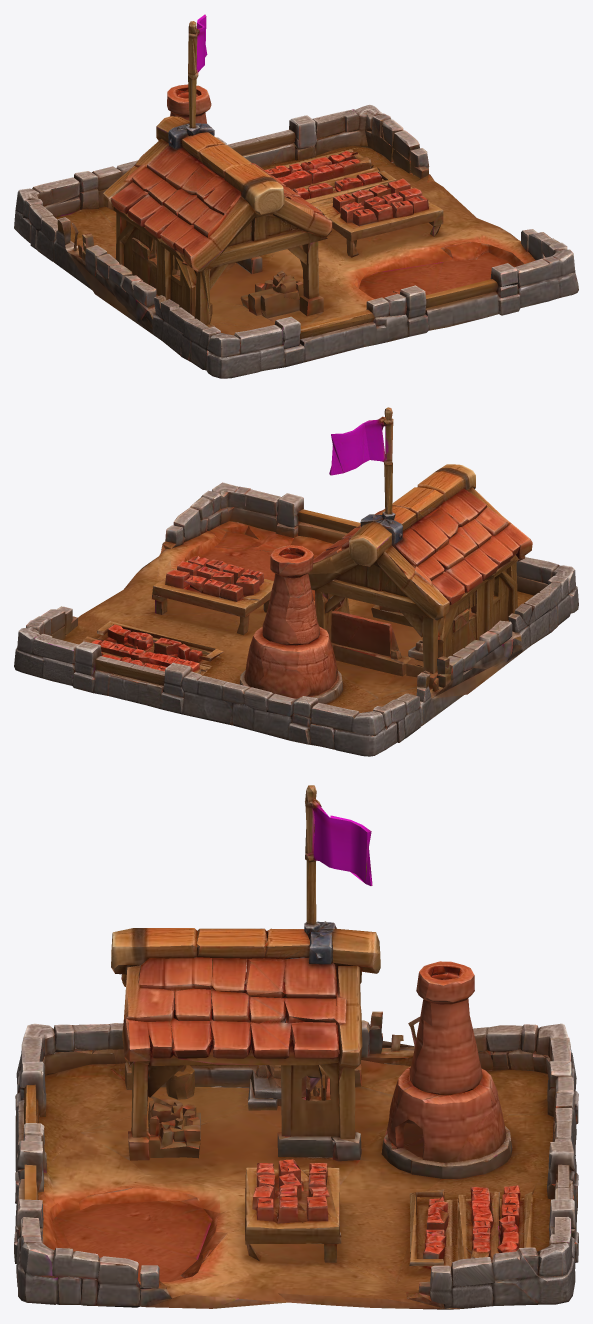
File: brickworks.glb
The picture shows the model from 3 angles, top to bottom: view 1: azimuth 30°, elevation 25°; view 2: azimuth 150°, elevation 25°; view 3: azimuth 270°, elevation 25°; orthographic projection. The views are drawn at different scales.
Parts seen in each view (by area): view 1: Mesh_0; view 2: Mesh_0; view 3: Mesh_0.
Part boxes in pixels (x1,y1,x2,y2): Mesh_0: [14, 14, 578, 378]; Mesh_0: [14, 407, 578, 756]; Mesh_0: [14, 785, 578, 1309].
Size of the model in its own units: 1.89 by 1.26 by 1.89.
Materials: 1 (1 with a texture image).
